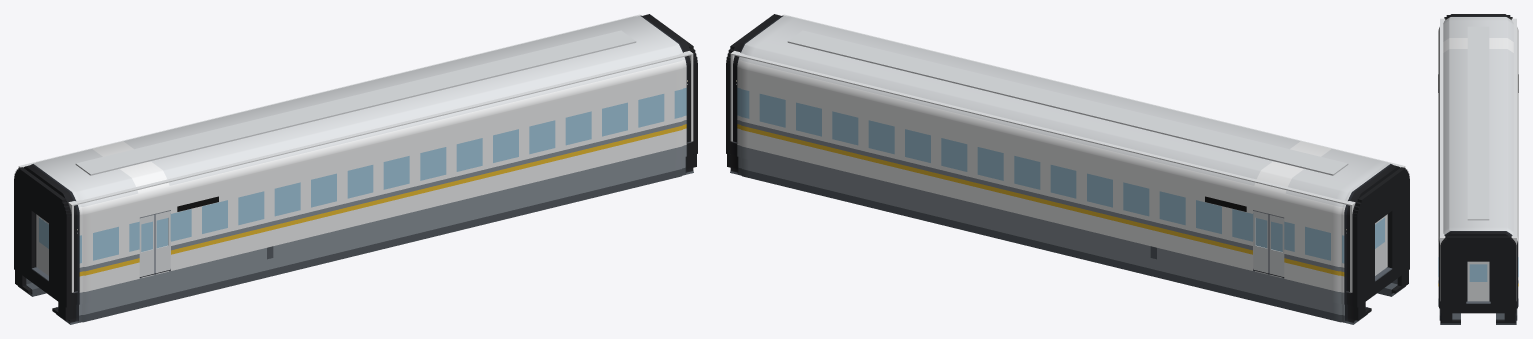
File: tr09_car.obj
3 views of the same model, side by side, from view 1: azimuth 30°, elevation 25°; view 2: azimuth 150°, elevation 25°; view 3: azimuth 270°, elevation 25° (orthographic). The views are drawn at different scales.
Visible parts, largest first — view 1: SHELL, SHELL_roof, SHELL_diaphragm, SHELL_ceiling, EXTERNAL_DOOR_4_CG_DR1_TOGGLE_TL_-0.54_X, EXTERNAL_DOOR_5_CG_DR1_TOGGLE_TL_0.54_X, SHELL_end, CONNECTING_DOOR_1_CG_CR_TOGGLE_TL_0.98_Z; view 2: SHELL, SHELL_roof, SHELL_diaphragm, SHELL_ceiling, EXTERNAL_DOOR_7_CG_DL1_TOGGLE_TL_-0.54_X, EXTERNAL_DOOR_8_CG_DL1_TOGGLE_TL_0.54_X, SHELL_end, CONNECTING_DOOR_1_CG_CR_TOGGLE_TL_0.98_Z; view 3: SHELL, SHELL_diaphragm, SHELL_roof, SHELL_ceiling, CONNECTING_DOOR_2_CG_CF_TOGGLE_TL_0.98_Z, SHELL_end, SHELL_floor, SHELL_gangway.
Boxes of the visible parts, x1=… form: SHELL: x1=18, y1=14, x2=693, y2=324; SHELL_roof: x1=75, y1=30, x2=636, y2=175; SHELL_diaphragm: x1=14, y1=14, x2=697, y2=320; SHELL_ceiling: x1=20, y1=15, x2=691, y2=205; EXTERNAL_DOOR_4_CG_DR1_TOGGLE_TL_-0.54_X: x1=139, y1=215, x2=155, y2=276; EXTERNAL_DOOR_5_CG_DR1_TOGGLE_TL_0.54_X: x1=155, y1=211, x2=170, y2=273; SHELL_end: x1=18, y1=14, x2=693, y2=292; CONNECTING_DOOR_1_CG_CR_TOGGLE_TL_0.98_Z: x1=37, y1=215, x2=48, y2=275; SHELL: x1=730, y1=14, x2=1405, y2=324; SHELL_roof: x1=787, y1=30, x2=1348, y2=175; SHELL_diaphragm: x1=726, y1=14, x2=1409, y2=320; SHELL_ceiling: x1=732, y1=15, x2=1403, y2=205; EXTERNAL_DOOR_7_CG_DL1_TOGGLE_TL_-0.54_X: x1=1268, y1=215, x2=1284, y2=276; EXTERNAL_DOOR_8_CG_DL1_TOGGLE_TL_0.54_X: x1=1253, y1=211, x2=1268, y2=273; SHELL_end: x1=730, y1=14, x2=1405, y2=292; CONNECTING_DOOR_1_CG_CR_TOGGLE_TL_0.98_Z: x1=1375, y1=215, x2=1386, y2=275; SHELL: x1=1438, y1=14, x2=1518, y2=324; SHELL_diaphragm: x1=1440, y1=15, x2=1516, y2=323; SHELL_roof: x1=1467, y1=26, x2=1489, y2=220; SHELL_ceiling: x1=1440, y1=19, x2=1516, y2=237; CONNECTING_DOOR_2_CG_CF_TOGGLE_TL_0.98_Z: x1=1467, y1=261, x2=1489, y2=301; SHELL_end: x1=1440, y1=18, x2=1516, y2=300; SHELL_floor: x1=1467, y1=262, x2=1489, y2=300; SHELL_gangway: x1=1466, y1=301, x2=1490, y2=303.
Size of the model in its own units: 24.32 by 4.68 by 3.72.
Materials: 1 (1 with a texture image).
